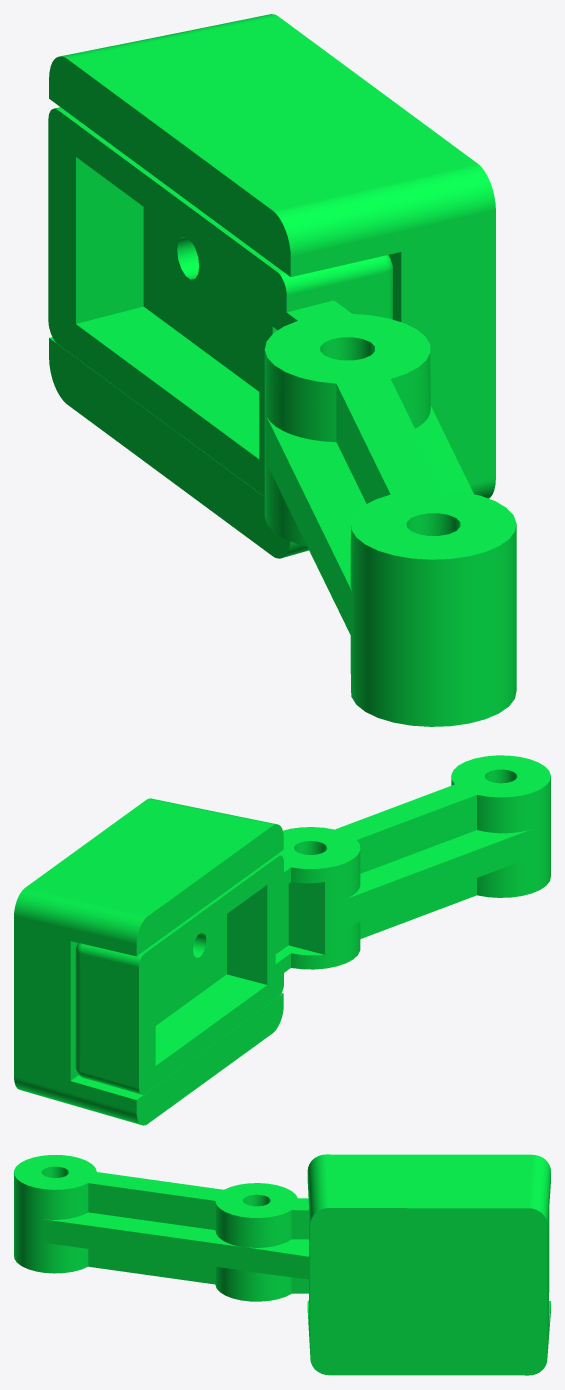
File: gripper_left1.dae
3 renders of one model, top to bottom at view 1: azimuth 30°, elevation 25°; view 2: azimuth 150°, elevation 25°; view 3: azimuth 270°, elevation 25°, orthographic. The views are drawn at different scales.
Visible parts, largest first — view 1: Brep (×2); view 2: Brep (×2); view 3: Brep (×2).
Part boxes in pixels (x1,y1,x2,y2): Brep (×2): (48, 14, 516, 726); Brep (×2): (14, 755, 550, 1125); Brep (×2): (14, 1154, 550, 1375).
Bounding box in the file's own units: 24.44 × 58.19 × 20.67.
